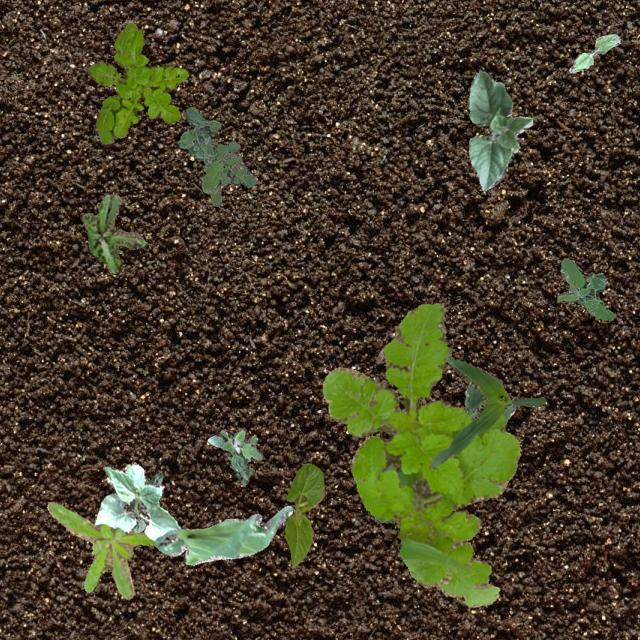crop: (428, 354, 546, 468), (154, 504, 292, 564), (468, 68, 532, 190), (94, 462, 180, 540), (284, 462, 324, 566), (568, 32, 618, 72), (130, 470, 162, 532)
weed: (322, 302, 520, 606), (86, 21, 188, 142), (46, 502, 154, 598), (178, 106, 255, 206), (80, 192, 144, 272), (556, 258, 612, 318), (206, 428, 262, 484), (464, 383, 514, 422)
